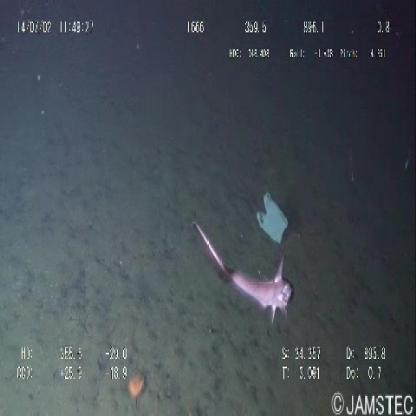Bio: (184, 214, 294, 327)
Rác: (251, 188, 291, 253)
